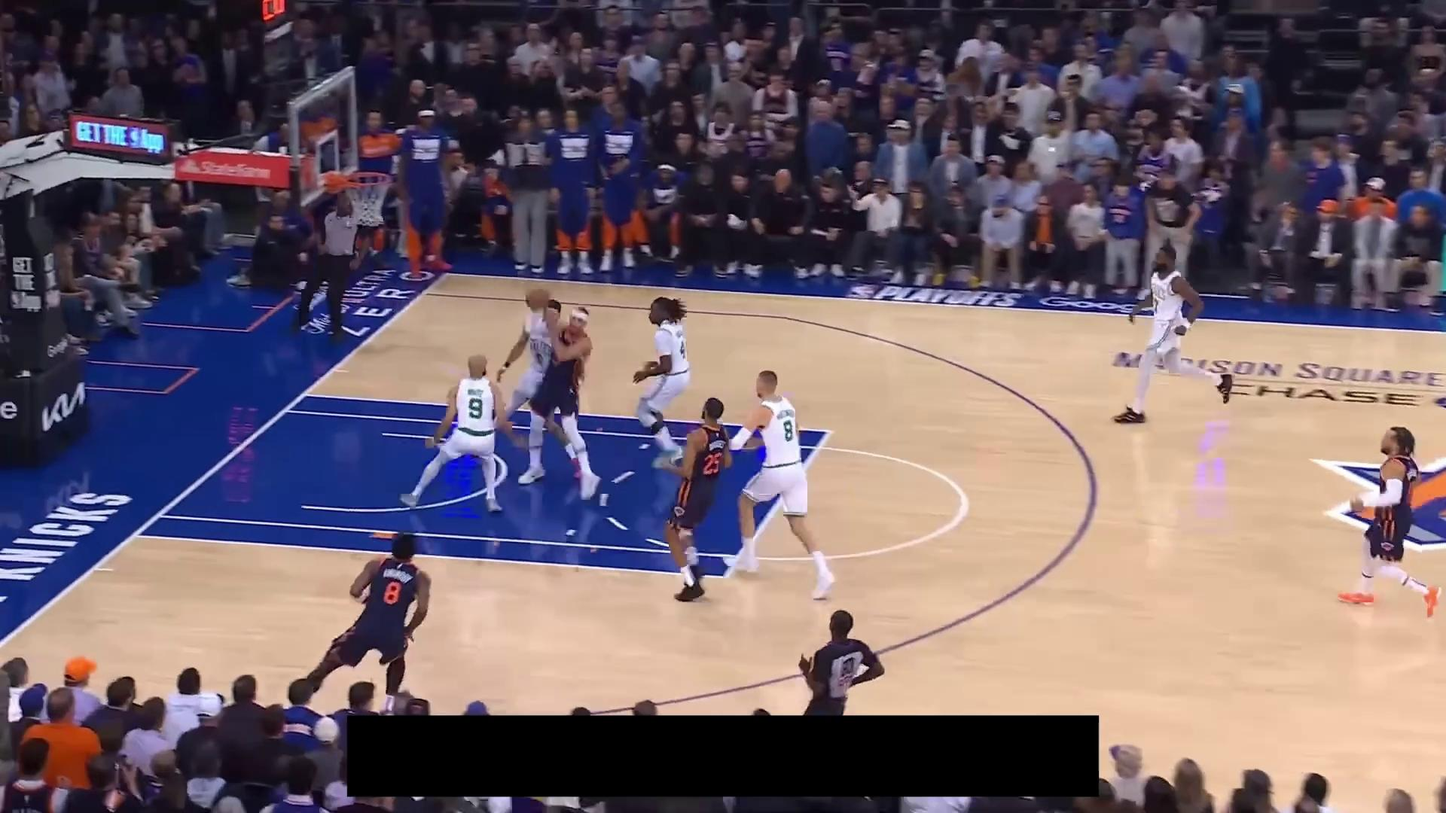ball: (525, 286, 551, 310)
number: (701, 449, 722, 477), (381, 581, 402, 606), (780, 415, 795, 441), (468, 396, 483, 419)
player: (728, 367, 840, 603), (306, 531, 435, 715), (1110, 240, 1234, 427), (1337, 422, 1444, 617), (400, 353, 516, 517), (492, 297, 581, 483), (658, 394, 733, 603), (630, 295, 692, 469)
player-in-possession: (517, 305, 603, 502)
referee: (288, 189, 372, 339), (796, 606, 886, 718)
rim: (341, 167, 391, 188)
